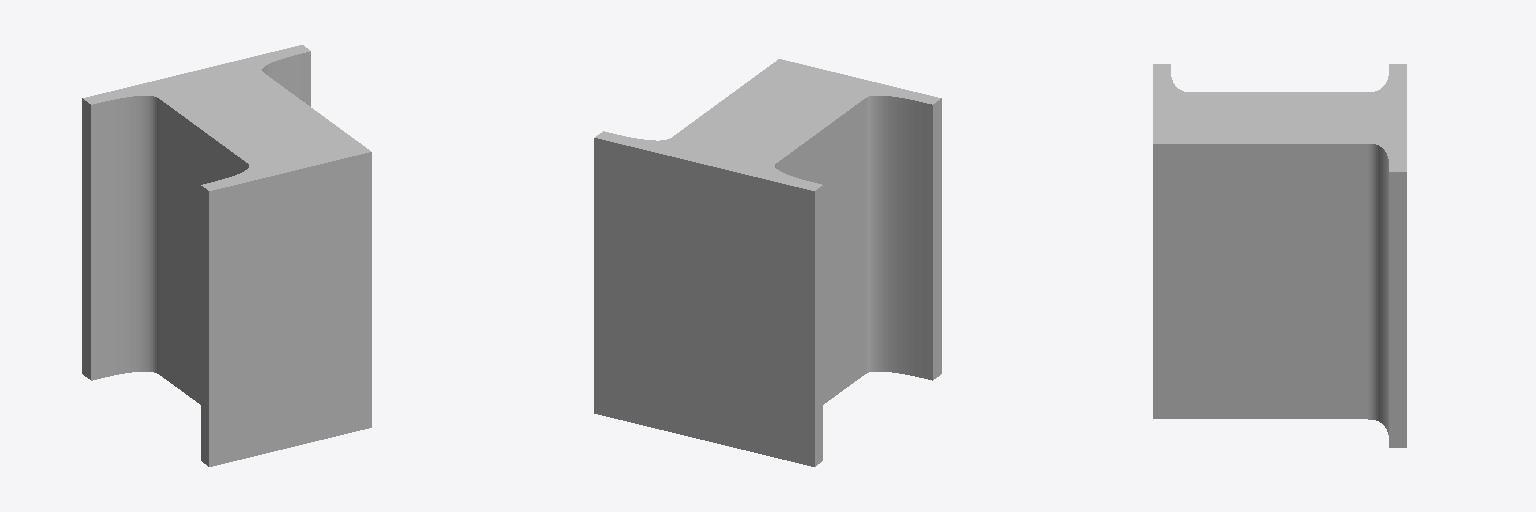
3 views of the same model, side by side, from view 1: azimuth 30°, elevation 25°; view 2: azimuth 150°, elevation 25°; view 3: azimuth 270°, elevation 25° (orthographic).
Parts seen in each view (by area): view 1: obj_0; view 2: obj_0; view 3: obj_0.
Part boxes in pixels (x1,y1,x2,y2): obj_0: (82, 45, 371, 466); obj_0: (594, 59, 941, 466); obj_0: (1153, 64, 1406, 447).
Bounding box in the file's own units: 5 × 5.99 × 5.